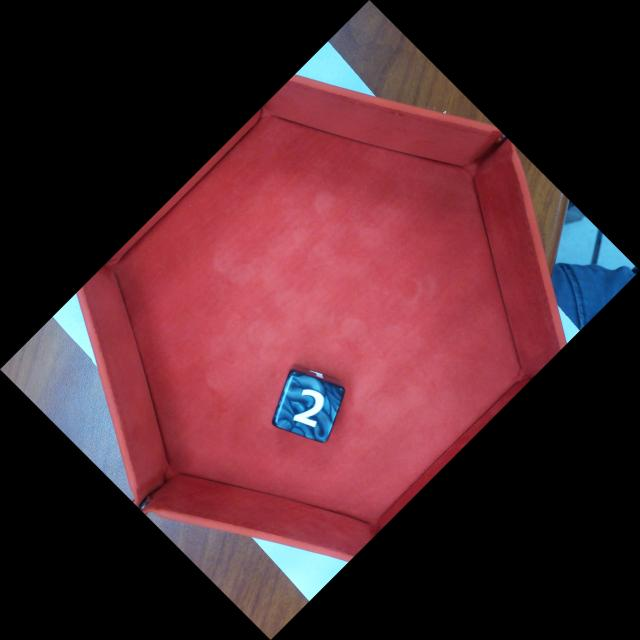dice: (273, 370, 344, 443)
